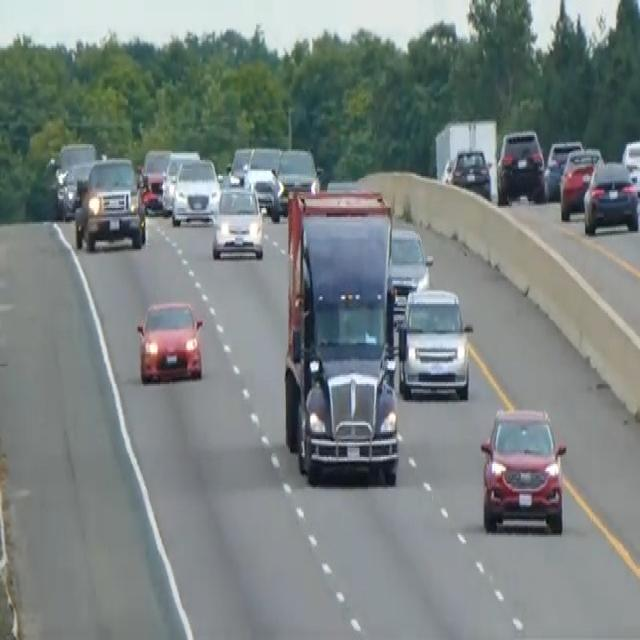car: (479, 404, 567, 535), (397, 284, 473, 400), (74, 153, 147, 251), (135, 297, 204, 384), (582, 156, 639, 234), (211, 182, 264, 262), (496, 126, 545, 204), (170, 154, 220, 226), (52, 140, 97, 218), (558, 146, 603, 220), (387, 221, 432, 295), (274, 146, 320, 213), (160, 148, 200, 214), (245, 144, 282, 215), (544, 137, 582, 199), (450, 146, 491, 199), (139, 146, 171, 212), (226, 144, 252, 187), (621, 137, 639, 195)
lorry: (282, 185, 400, 485)
